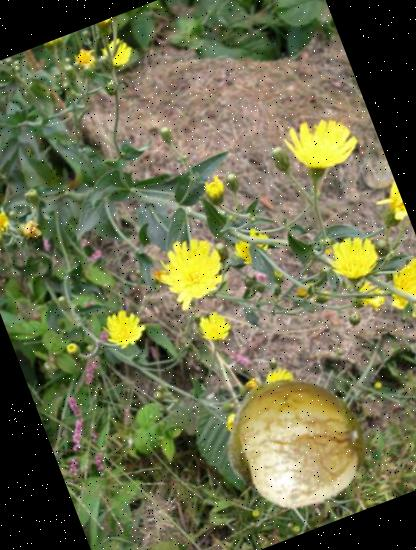Apple: (215, 361, 383, 528)
Guava: (208, 352, 390, 534)
